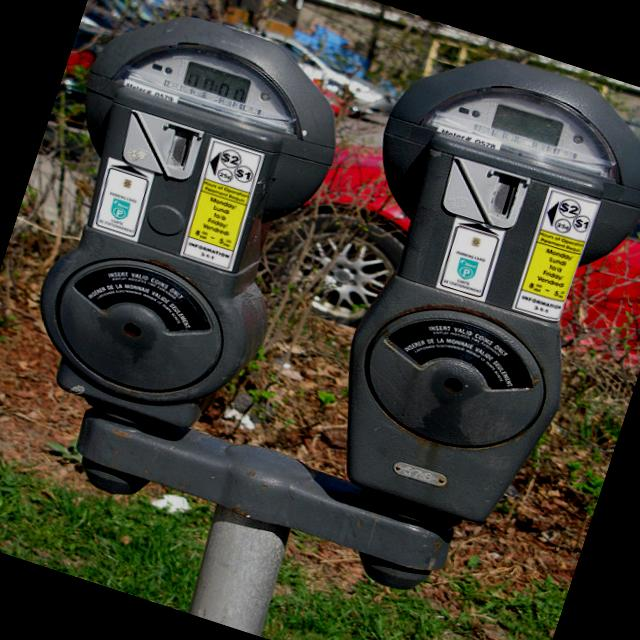Vehicle: (248, 35, 640, 413), (212, 18, 405, 127), (48, 0, 147, 139)
